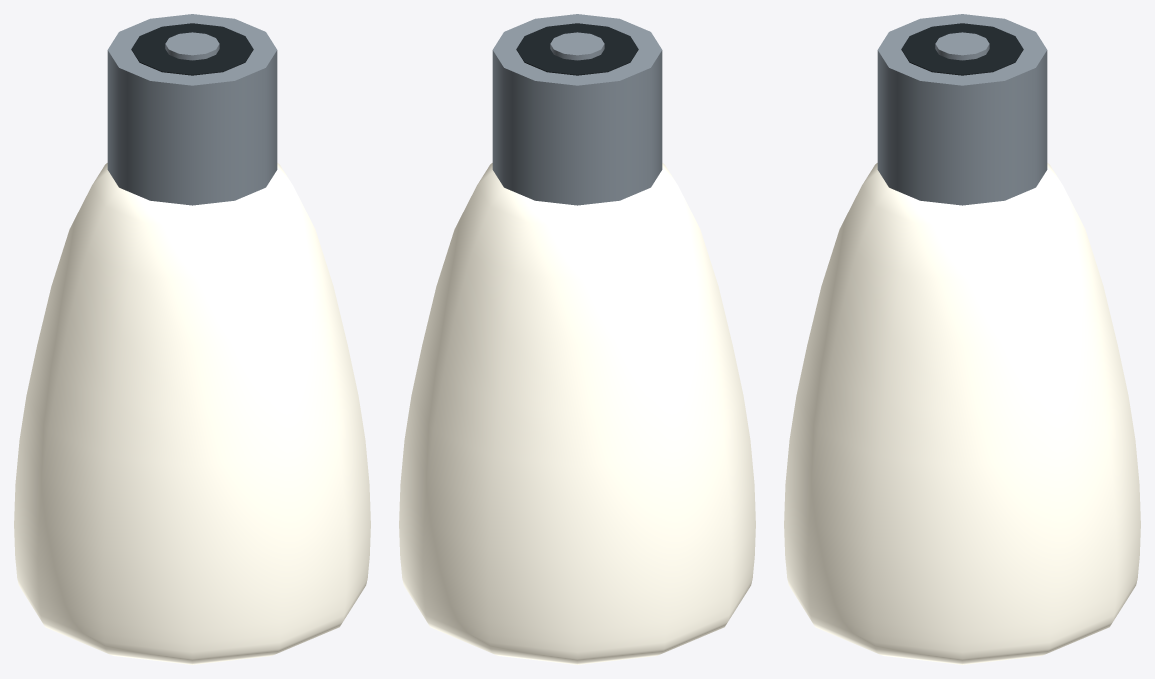
Rendered from source.glb.
3 views of the same model, side by side, from view 1: azimuth 30°, elevation 25°; view 2: azimuth 150°, elevation 25°; view 3: azimuth 270°, elevation 25° (orthographic).
Visible parts, largest first — view 1: Emitters, 机加工金属, 密封及绝缘件; view 2: Emitters, 机加工金属, 密封及绝缘件; view 3: Emitters, 机加工金属, 密封及绝缘件.
Boxes of the visible parts, left/top/right/bottom form: Emitters: left=14, top=163, right=370, bottom=664; 机加工金属: left=107, top=14, right=277, bottom=205; 密封及绝缘件: left=131, top=23, right=253, bottom=75; Emitters: left=399, top=163, right=755, bottom=664; 机加工金属: left=492, top=14, right=662, bottom=205; 密封及绝缘件: left=516, top=23, right=638, bottom=75; Emitters: left=784, top=163, right=1140, bottom=664; 机加工金属: left=877, top=14, right=1047, bottom=205; 密封及绝缘件: left=901, top=23, right=1023, bottom=75.
Bounding box in the file's own units: 0.0505 × 0.087 × 0.0505.
